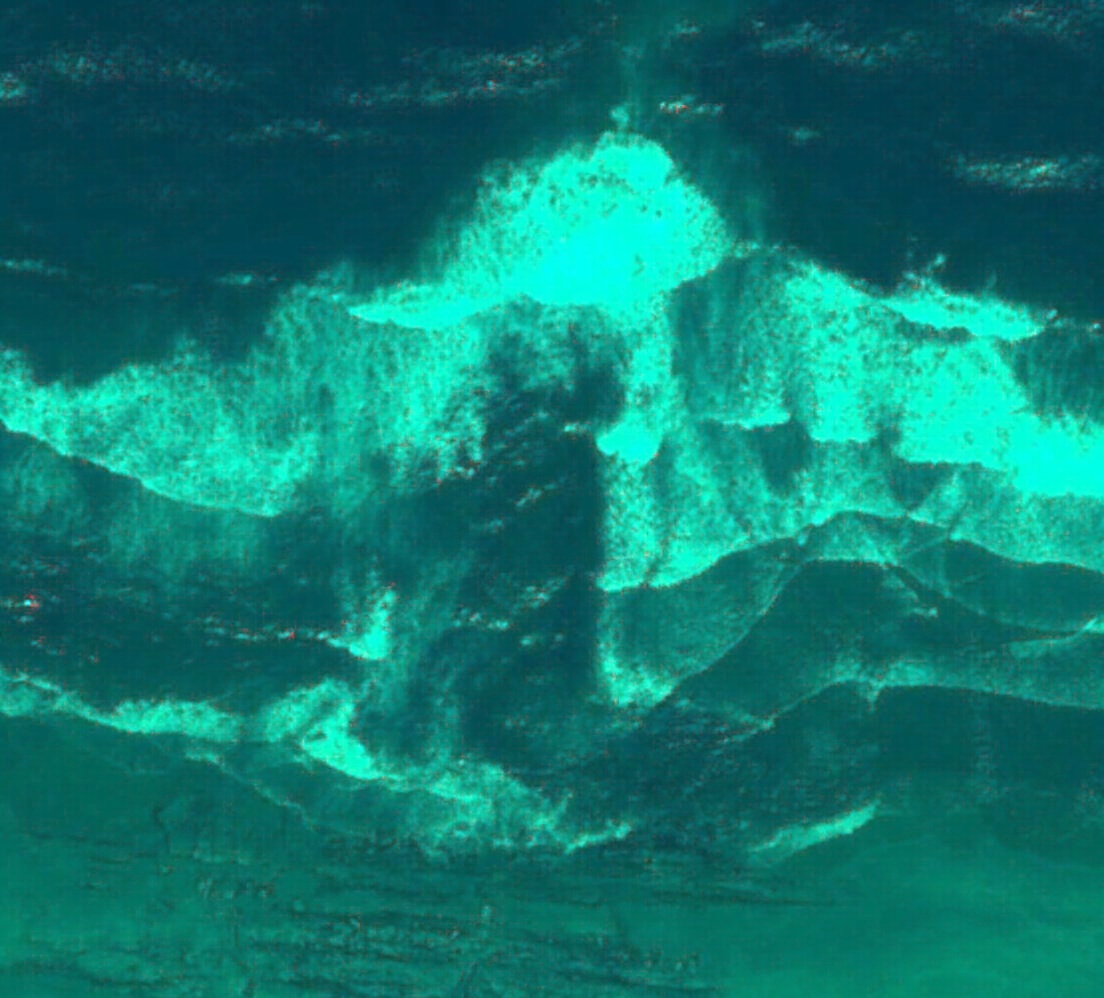rip_current: (371, 164, 661, 799)
